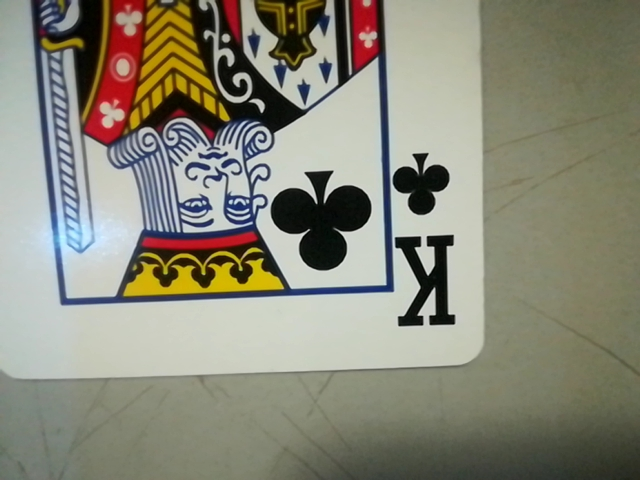mh k: (382, 145, 474, 347)
